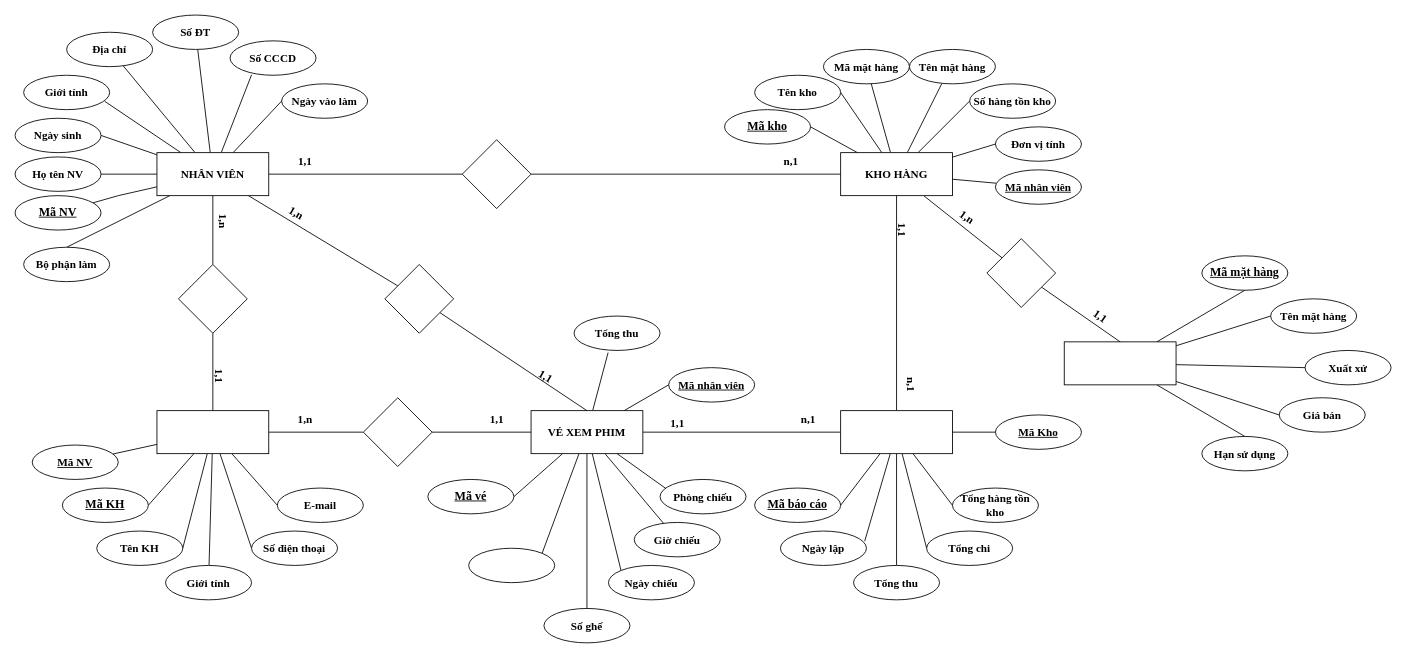
The diagram is 1406 pixels wide and 658 high, and some of its shapes have lost their labels. The box of each missing label's shape, as (x1, y1, x2, y2) in pixels:
BÁO CÁO THỐNG KÊ: (840, 410, 952, 454)
Giám sát: (461, 139, 531, 209)
Khách hàng: (156, 410, 269, 454)
Mua: (362, 397, 432, 467)
Nhập vào: (986, 238, 1056, 307)
SẢN PHẨM: (1063, 341, 1176, 385)
Thêm: (178, 264, 247, 333)
Tên Phim: (468, 547, 555, 583)
Tạo: (384, 264, 454, 333)
